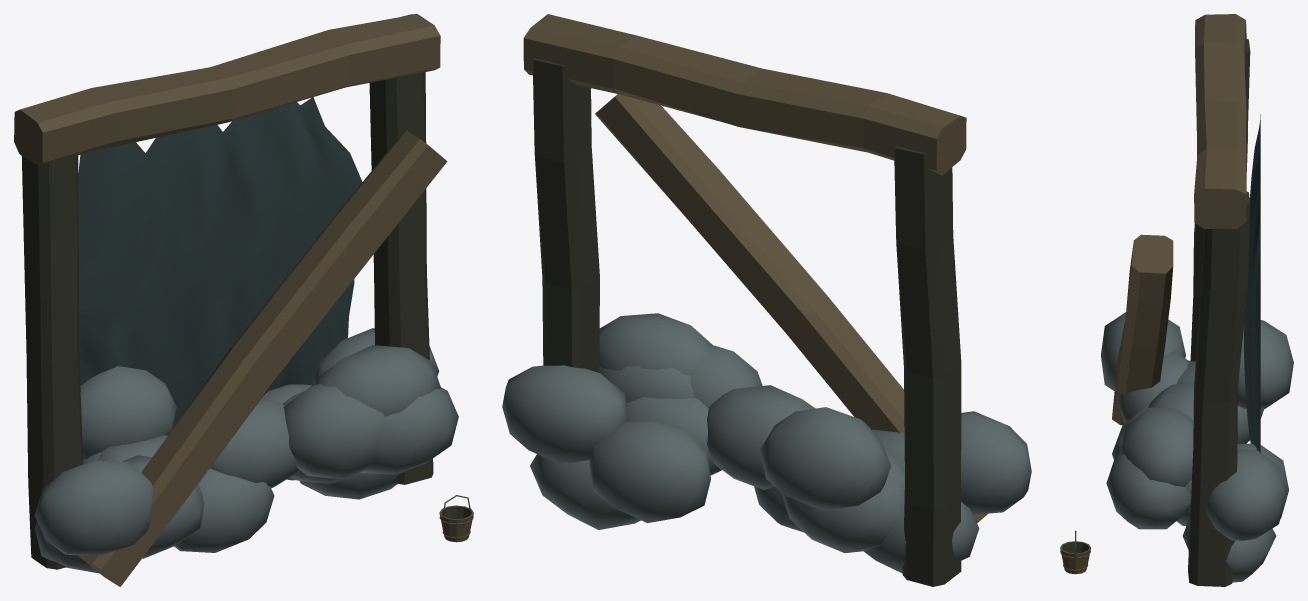
File: three-knocks-used.glb
3 renders of one model, left to right at view 1: azimuth 30°, elevation 25°; view 2: azimuth 150°, elevation 25°; view 3: azimuth 270°, elevation 25°, orthographic. The views are drawn at different scales.
Visible parts, largest first — view 1: Surface; view 2: Surface; view 3: Surface.
Boxes of the visible parts, x1,y1,x2,y2 form: Surface: (14,14,473,586); Surface: (502,14,1031,586); Surface: (1060,14,1293,586).
Size of the model in its own units: 1.44 by 1.43 by 0.725.
